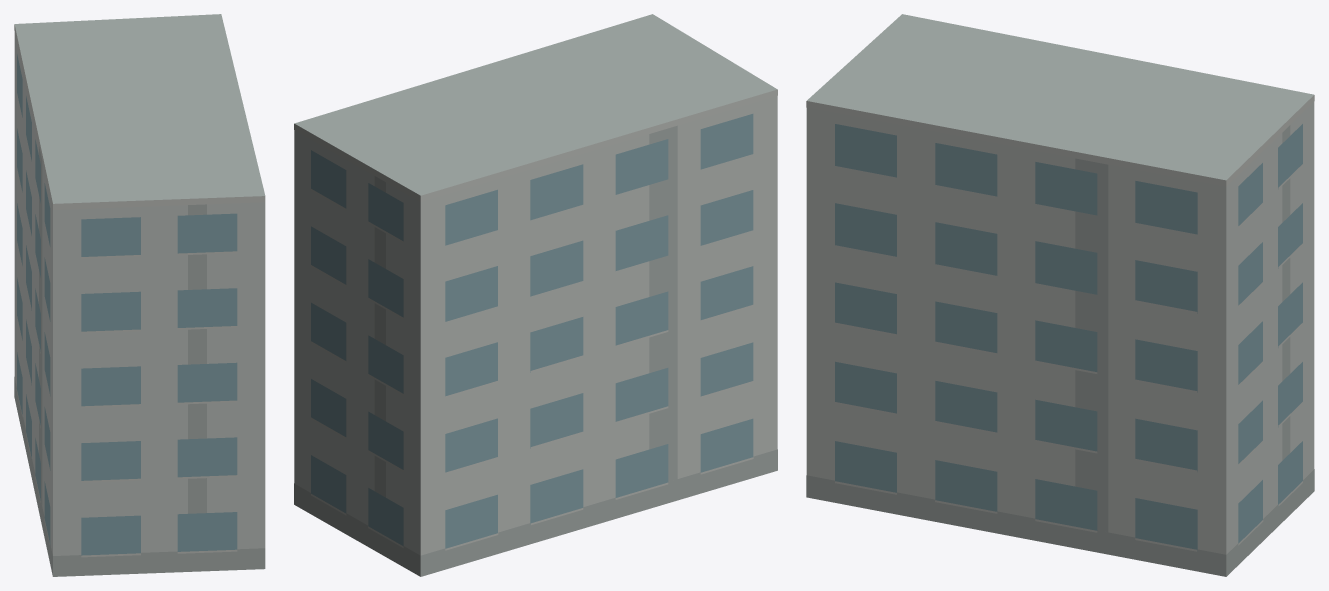
The model's file is survey-upis-33017193.glb.
3 views of the same model, side by side, from view 1: azimuth 30°, elevation 25°; view 2: azimuth 150°, elevation 25°; view 3: azimuth 270°, elevation 25° (orthographic). The views are drawn at different scales.
Parts seen in each view (by area): view 1: survey-upis-33017193.tmp; view 2: survey-upis-33017193.tmp; view 3: survey-upis-33017193.tmp.
Boxes of the visible parts, x1,y1,x2,y2 form: survey-upis-33017193.tmp: (14,14,265,576); survey-upis-33017193.tmp: (294,14,777,576); survey-upis-33017193.tmp: (806,14,1314,576).
Bounding box in the file's own units: 13.06 × 14.5 × 16.85.
